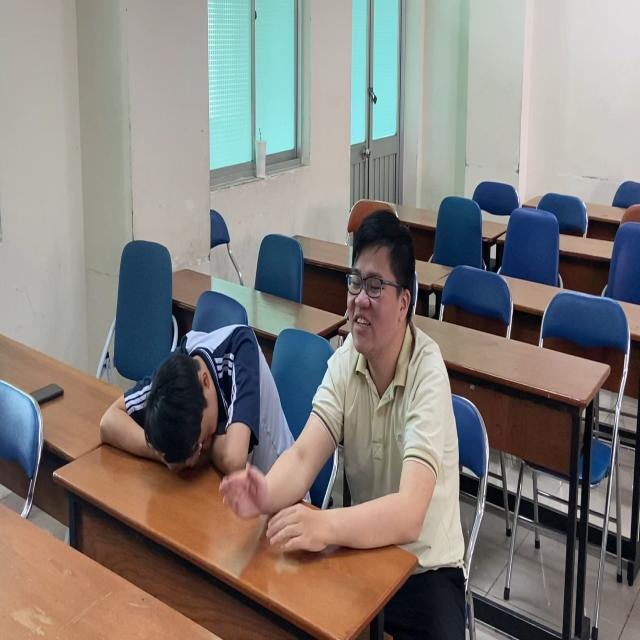sleep: (99, 312, 288, 493)
